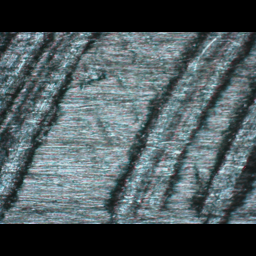d: (91, 34, 255, 222), (0, 33, 103, 219)
